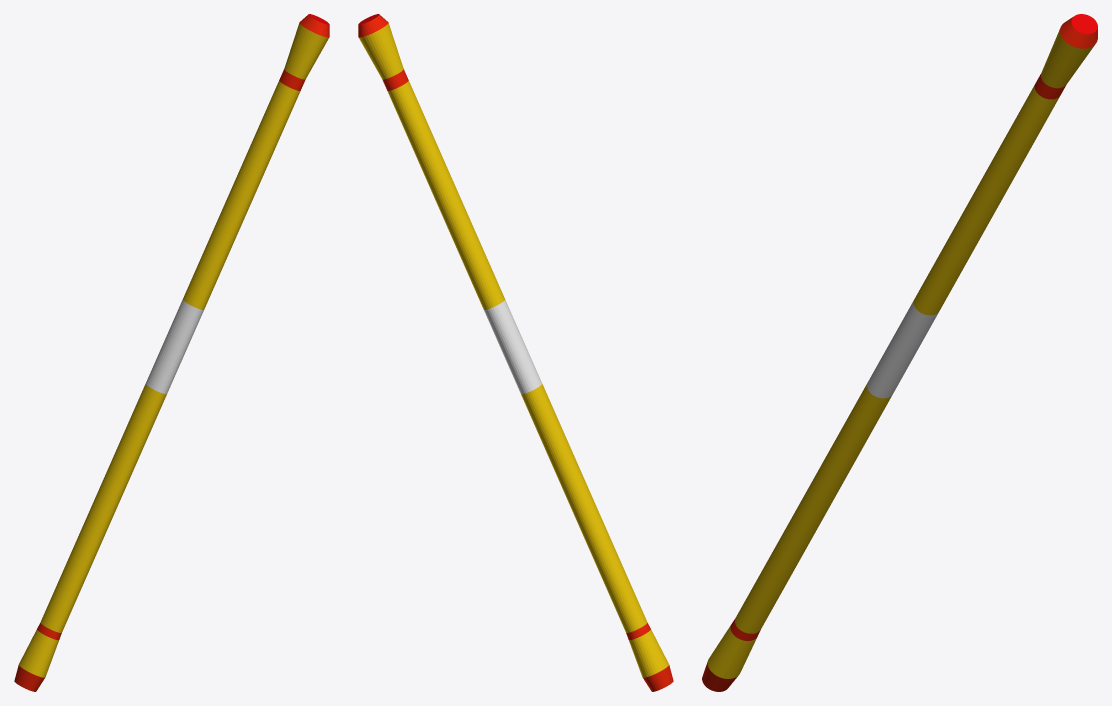
File: baculo.glb
The picture shows the model from 3 angles, left to right: view 1: azimuth 30°, elevation 25°; view 2: azimuth 150°, elevation 25°; view 3: azimuth 330°, elevation 25°; orthographic projection. The views are drawn at different scales.
Visible parts, largest first — view 1: Vaculo; view 2: Vaculo; view 3: Vaculo.
Part boxes in pixels (x1=…): Vaculo: x1=14, y1=14, x2=329, y2=691; Vaculo: x1=358, y1=14, x2=673, y2=691; Vaculo: x1=702, y1=14, x2=1097, y2=691.
Bounding box in the file's own units: 1.4 × 2.61 × 0.1495.
